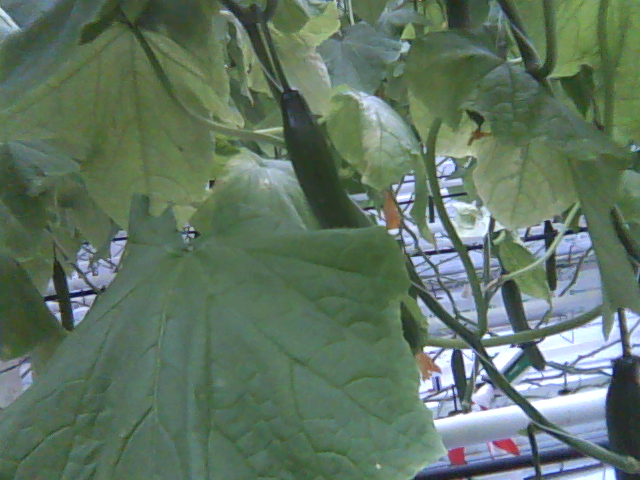concombre: (275, 86, 444, 386), (602, 347, 640, 480)
